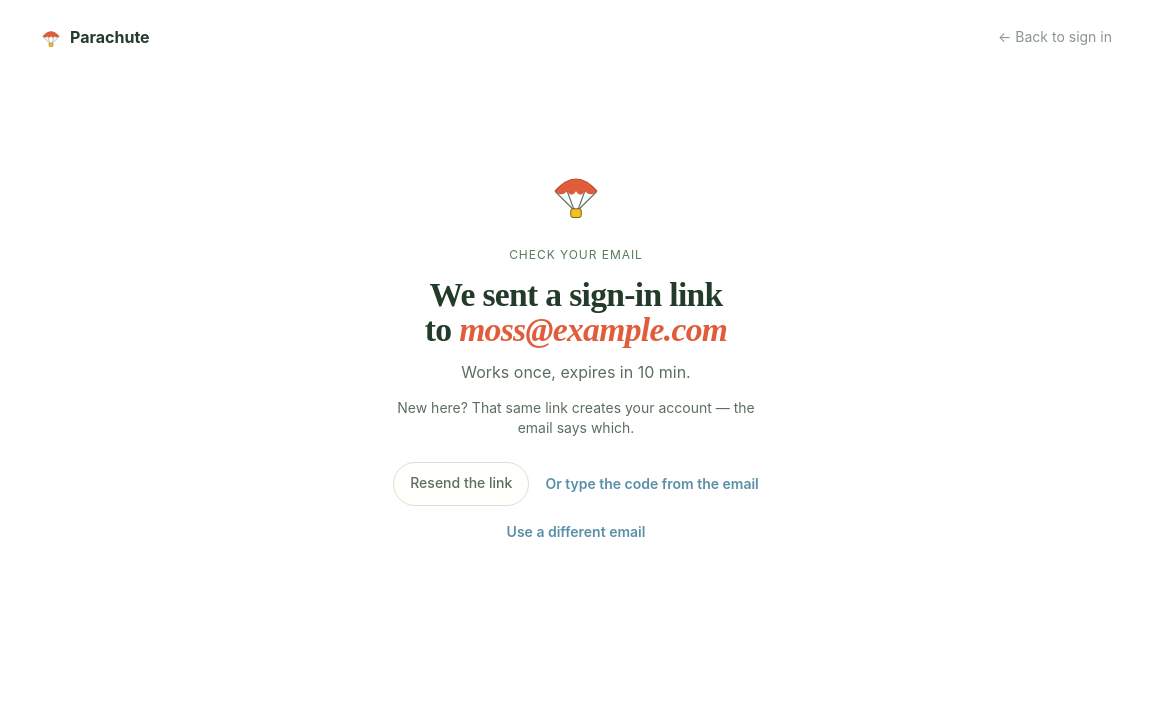
CheckEmail › resends the link and confirms
Click the button "Resend the link" at (461, 484), box [393, 462, 529, 506]
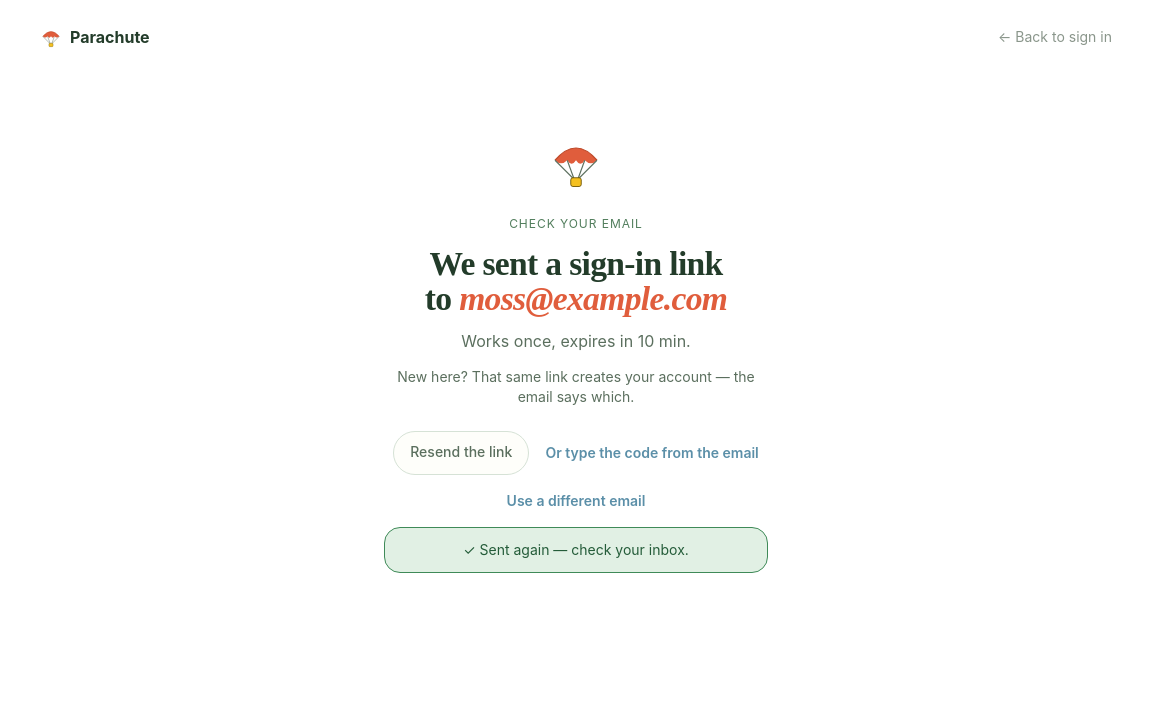
Check: the text "✓ Sent again — check your inbox." is shown, box [384, 526, 768, 572]
